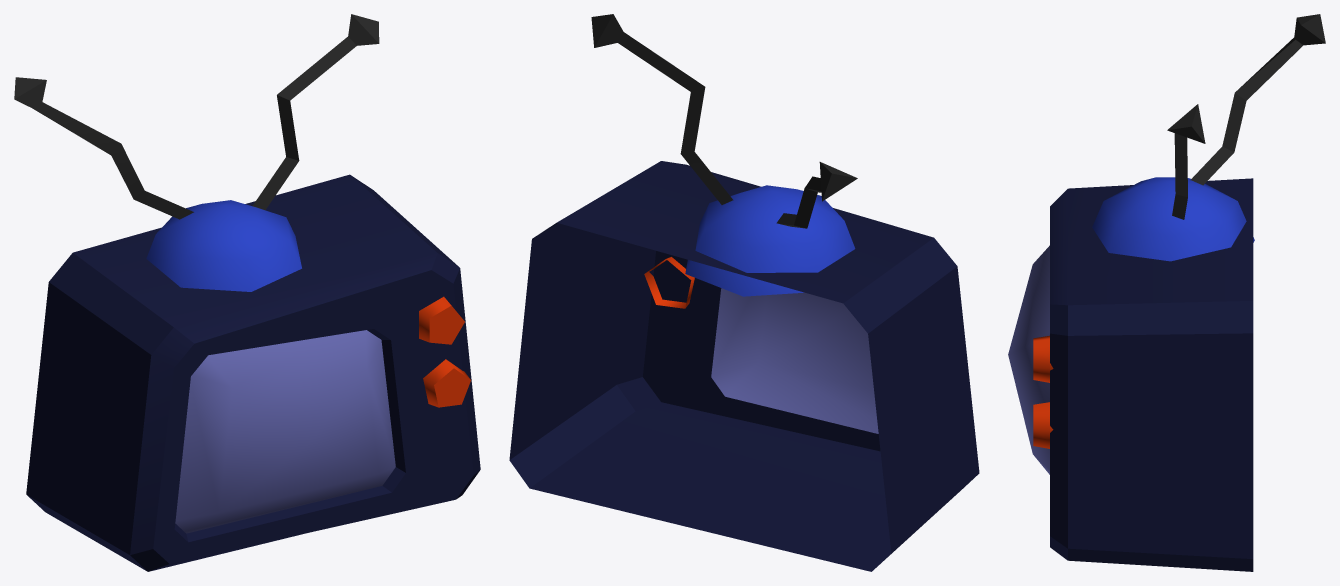
Rendered from MDL_TV.FBX.
3 renders of one model, left to right at view 1: azimuth 30°, elevation 25°; view 2: azimuth 150°, elevation 25°; view 3: azimuth 270°, elevation 25°, orthographic. The views are drawn at different scales.
Visible parts, largest first — view 1: Box028; view 2: Box028; view 3: Box028.
Boxes of the visible parts, x1,y1,x2,y2 form: Box028: (14,14,480,571); Box028: (509,14,979,571); Box028: (1008,14,1325,571).
Bounding box in the file's own units: 37.15 × 43.37 × 28.2.
